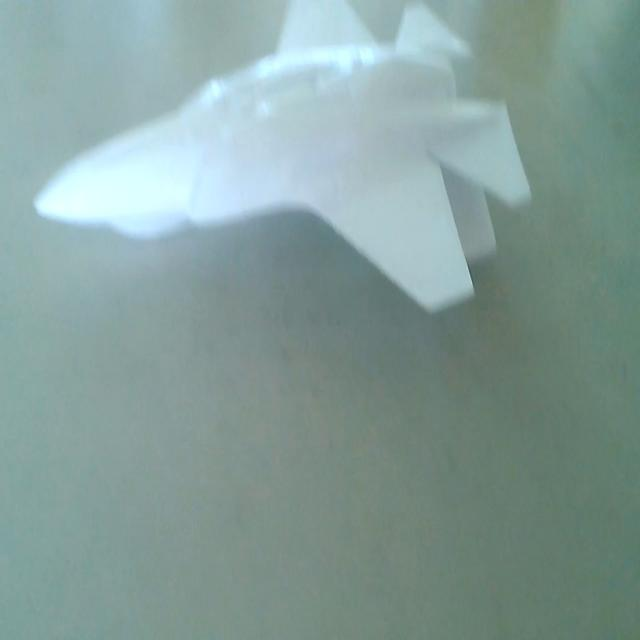Jet: (32, 0, 542, 332)
